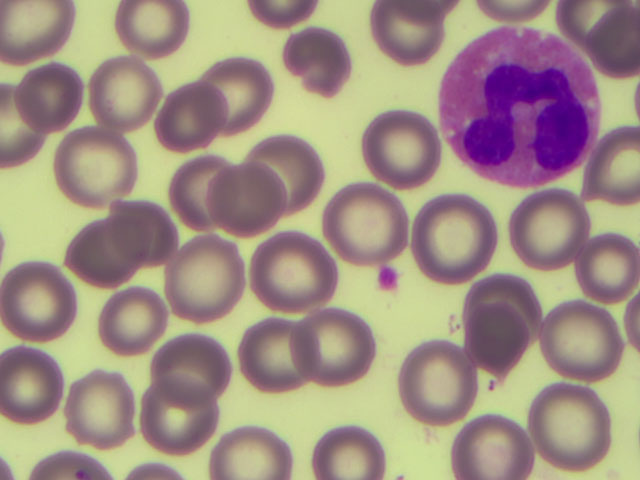Platelets: (376, 267, 399, 286)
RBC: (309, 422, 401, 480), (62, 134, 135, 204), (82, 51, 155, 121), (465, 410, 538, 480), (539, 387, 612, 457), (9, 48, 82, 118), (565, 233, 638, 303), (514, 185, 587, 255), (480, 271, 553, 341), (459, 298, 532, 368), (402, 336, 475, 406), (301, 310, 374, 380), (409, 196, 482, 266), (328, 185, 401, 255), (361, 112, 434, 182), (275, 28, 348, 98), (207, 54, 280, 124), (60, 371, 133, 441), (140, 378, 213, 448), (151, 329, 224, 399), (237, 314, 310, 384), (248, 234, 321, 304), (169, 146, 242, 216), (248, 127, 321, 197), (205, 159, 278, 229), (107, 195, 180, 265), (163, 231, 236, 301), (88, 288, 161, 358), (154, 78, 227, 148), (1, 265, 73, 335), (367, 1, 440, 70), (1, 1, 73, 70), (586, 116, 640, 206), (1, 346, 57, 425), (219, 420, 292, 480), (112, 1, 187, 53), (597, 2, 640, 75), (247, 1, 326, 38), (1, 93, 40, 163), (23, 451, 116, 479), (557, 1, 626, 32), (469, 1, 549, 16)
WBC: (434, 30, 604, 180)
